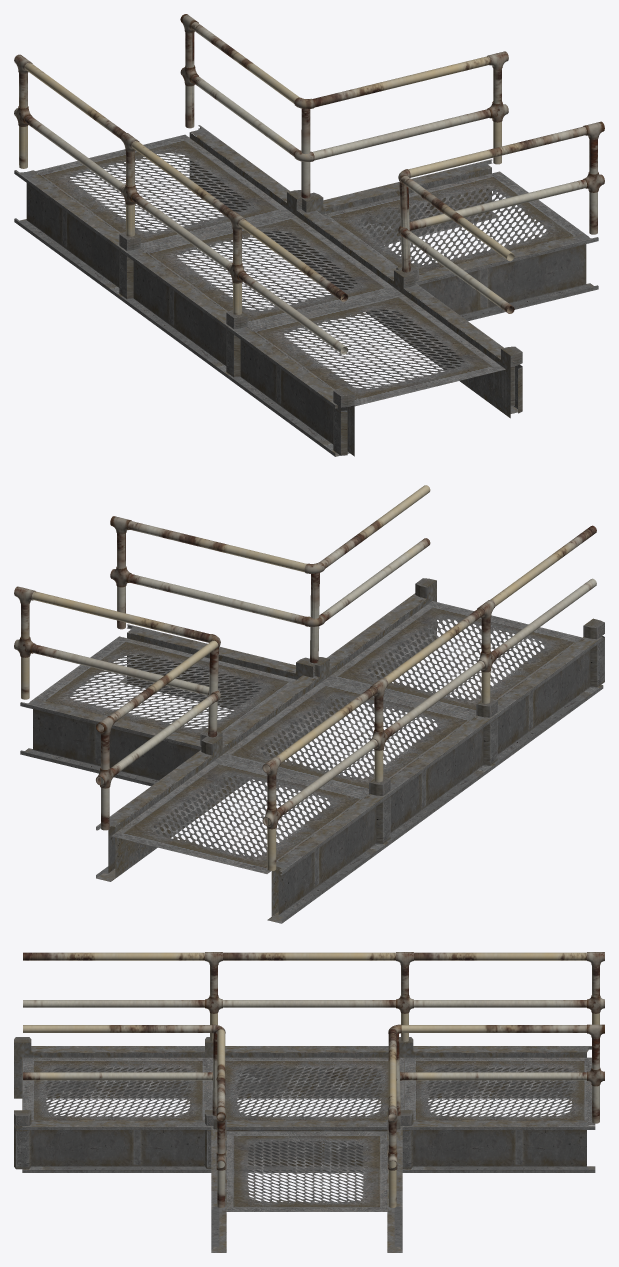
Rendered from upper_platform_T_opposite.fbx.
3 renders of one model, top to bottom at view 1: azimuth 30°, elevation 25°; view 2: azimuth 150°, elevation 25°; view 3: azimuth 270°, elevation 25°, orthographic. The views are drawn at different scales.
Parts seen in each view (by area): view 1: upper_platform_T_opposite; view 2: upper_platform_T_opposite; view 3: upper_platform_T_opposite.
Boxes of the visible parts, bbox=[...] form: upper_platform_T_opposite: bbox=[14, 14, 604, 456]; upper_platform_T_opposite: bbox=[14, 485, 604, 923]; upper_platform_T_opposite: bbox=[14, 952, 604, 1252].
Size of the model in its own units: 409 by 166 by 619.
